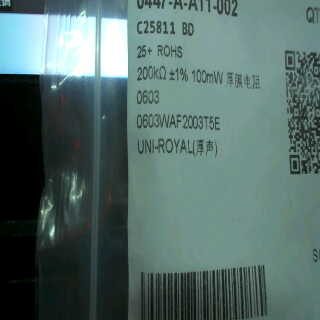200kR: (133, 63, 169, 84)
